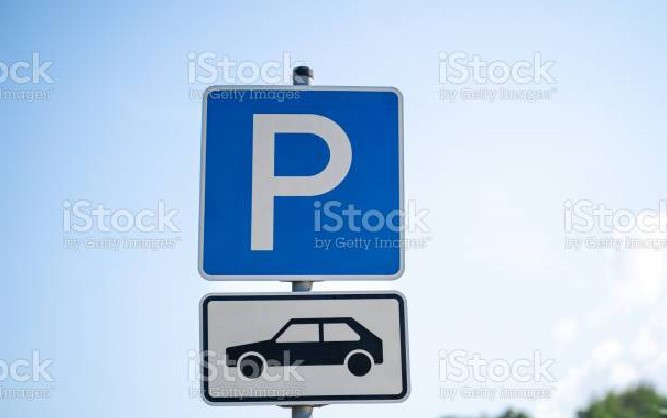Parking: (191, 72, 408, 289)
